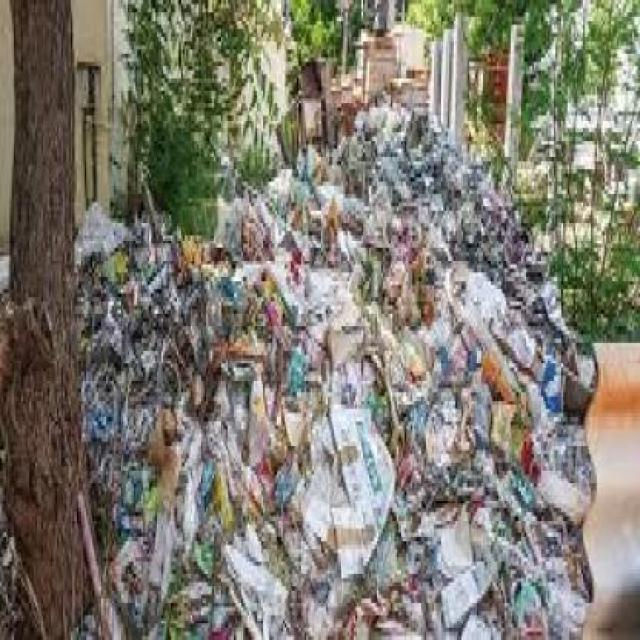garbage: (77, 191, 597, 637), (275, 100, 512, 232)
